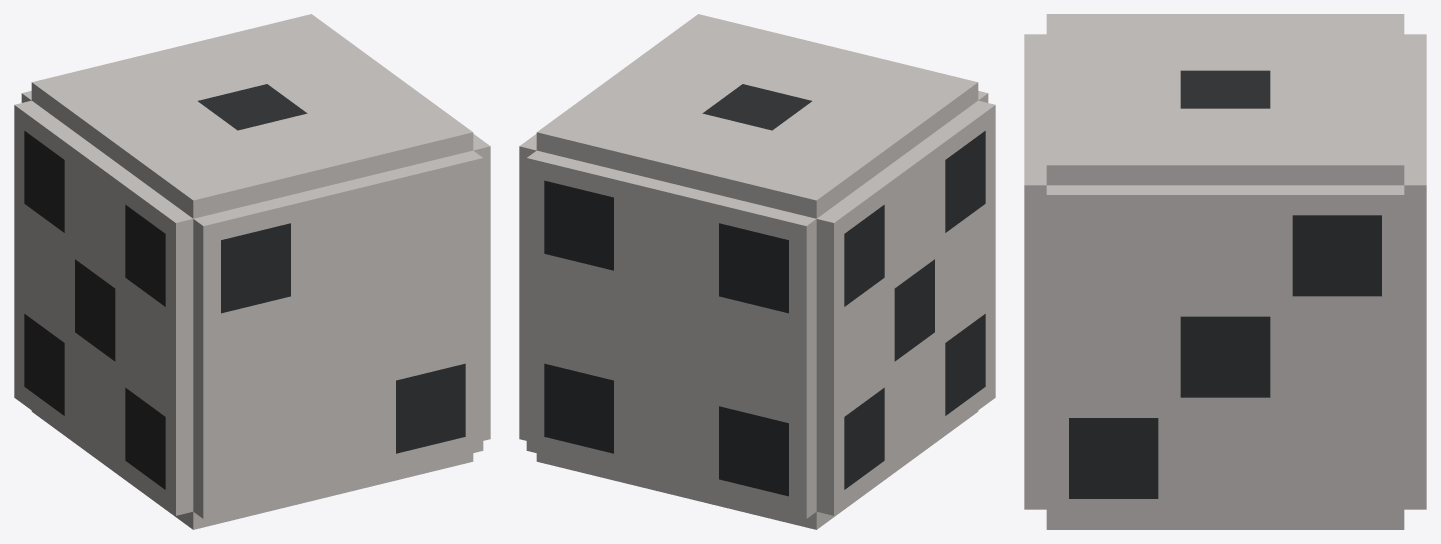
Rendered from dice-v2-white-black.gltf.
The picture shows the model from 3 angles, left to right: view 1: azimuth 30°, elevation 25°; view 2: azimuth 150°, elevation 25°; view 3: azimuth 270°, elevation 25°; orthographic projection. The views are drawn at different scales.
Parts seen in each view (by area): view 1: Untitled; view 2: Untitled; view 3: Untitled.
Boxes of the visible parts, <box> form: Untitled: <box>14,14,490,529</box>; Untitled: <box>519,14,995,529</box>; Untitled: <box>1024,14,1426,529</box>.
Bounding box in the file's own units: 1.8 × 1.8 × 1.8.
1 material, 1 textured.
